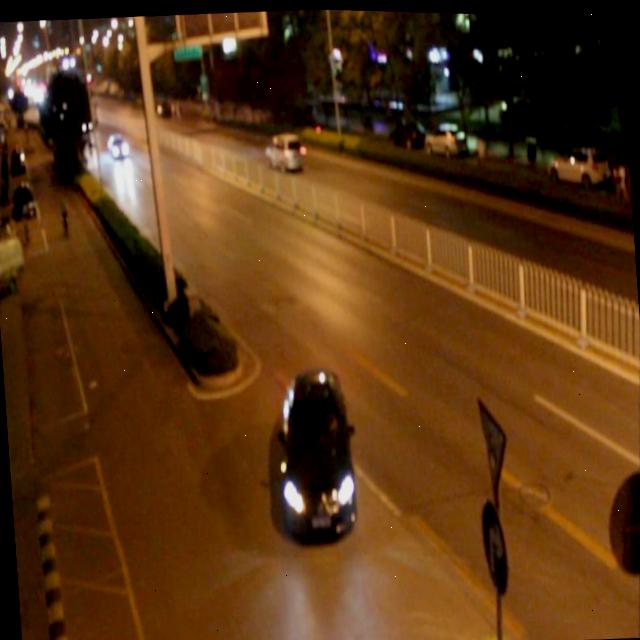car: (276, 362, 358, 539), (263, 129, 304, 173), (105, 131, 128, 157), (76, 111, 96, 137)
